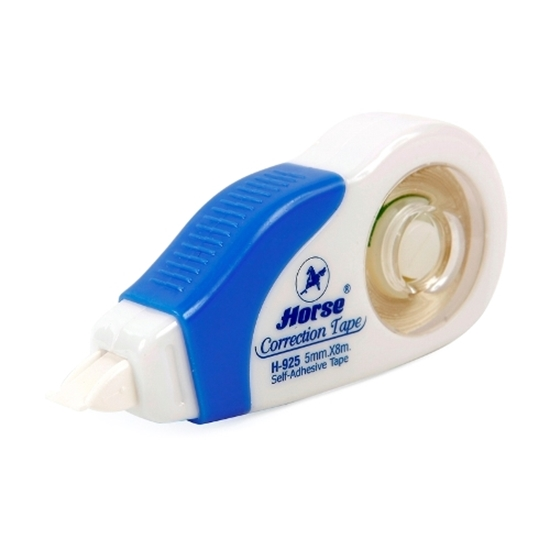Correction_fluid: (40, 98, 518, 436)
